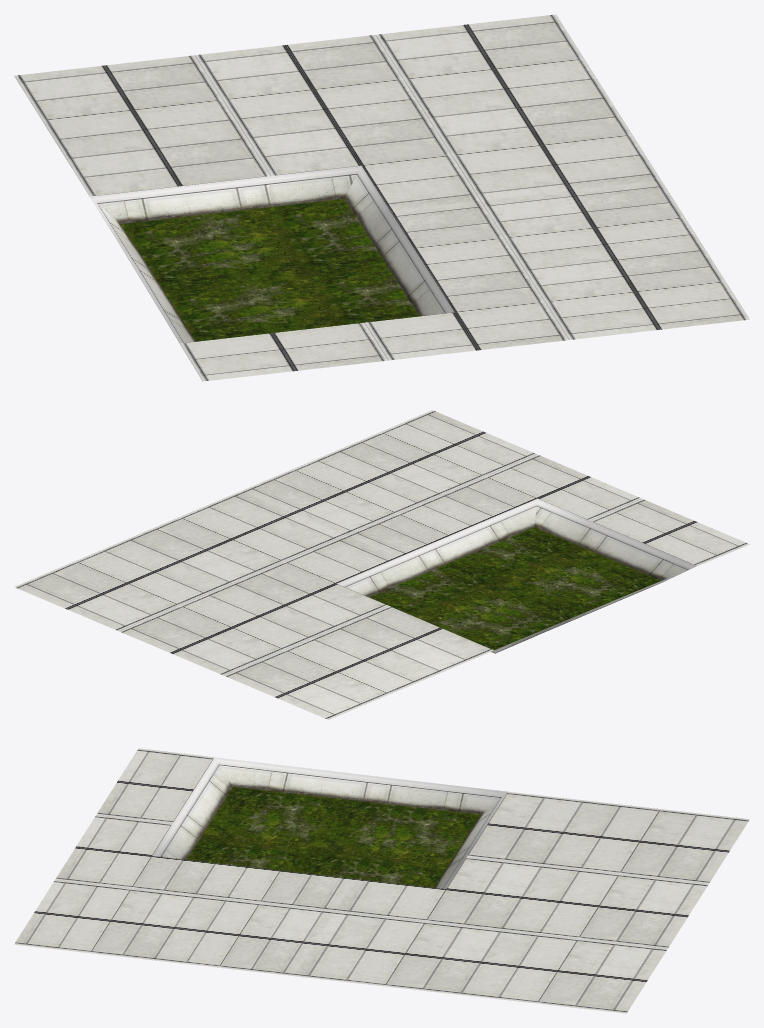
Rendered from STA20_lobbyfloor01.FBX.
The picture shows the model from 3 angles, top to bottom: view 1: azimuth 30°, elevation 25°; view 2: azimuth 150°, elevation 25°; view 3: azimuth 270°, elevation 25°; orthographic projection. The views are drawn at different scales.
Parts seen in each view (by area): view 1: STA20_lobbyfloor01; view 2: STA20_lobbyfloor01; view 3: STA20_lobbyfloor01.
Boxes of the visible parts, bbox=[...] form: STA20_lobbyfloor01: bbox=[14, 14, 749, 381]; STA20_lobbyfloor01: bbox=[14, 410, 749, 719]; STA20_lobbyfloor01: bbox=[14, 748, 749, 1013].
Size of the model in its own units: 17.24 by 0.5051 by 20.21.
